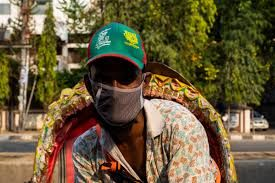with-mask: (81, 29, 148, 131)
